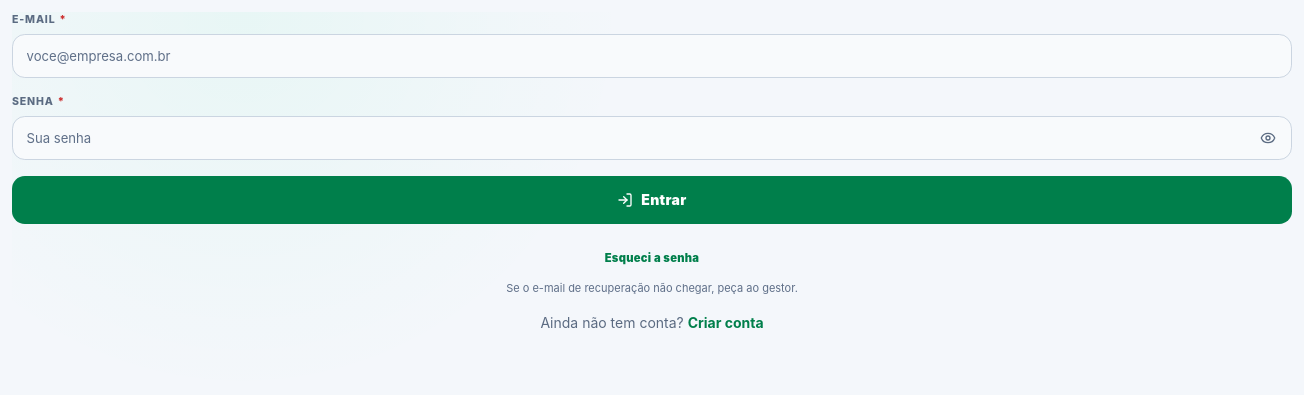
Test case: LoginForm › shows "E-mail ou senha inválidos." on invalid credentials and keeps the button enabled
Type "a@b.com" into the field labelled "E-mail*".
click(652, 56); type("a@b.com")  # box 12,34 -> 1292,78
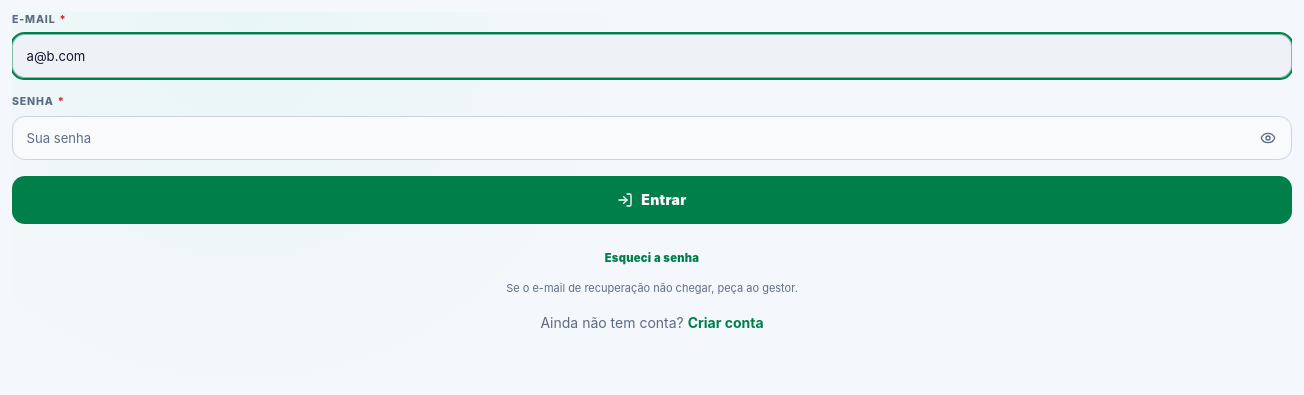
Type "senha-errada" into the password field labelled "Senha*".
click(652, 138); type("senha-errada")  # box 12,116 -> 1292,160
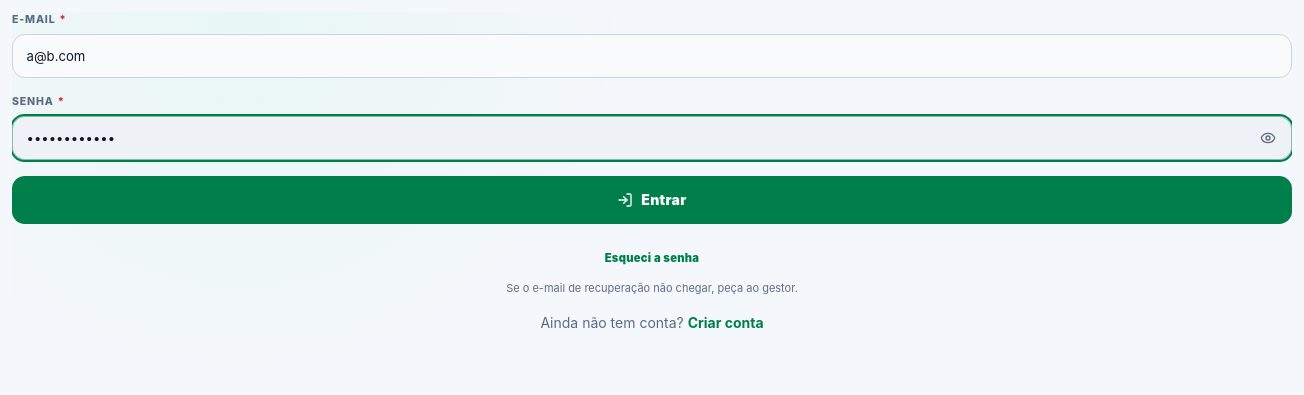
Click the button "Entrar".
click(652, 200)  # box 12,176 -> 1292,224
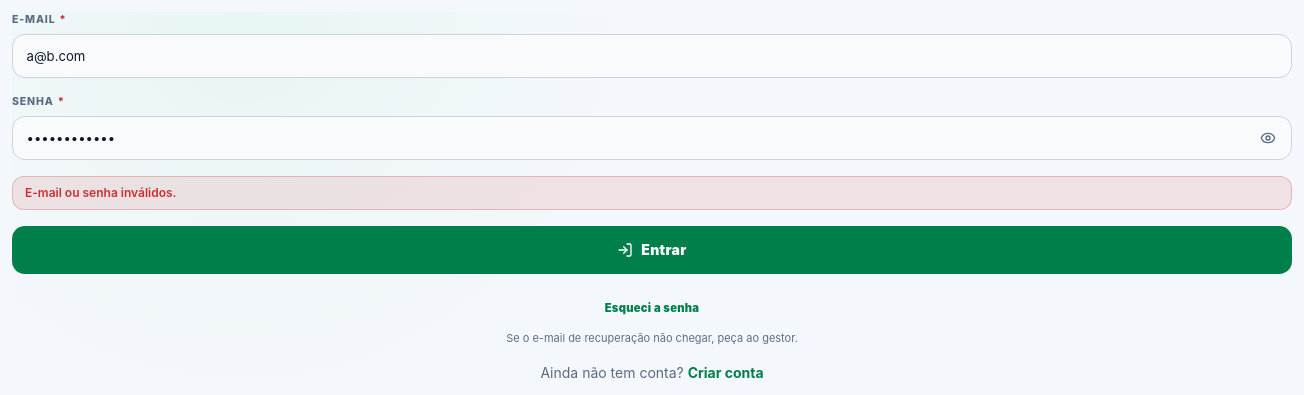
Expected: the button "Entrar" is enabled, 12,226 -> 1292,274
Expected: the message reads "E-mail ou senha inválidos.", 25,186 -> 176,200
